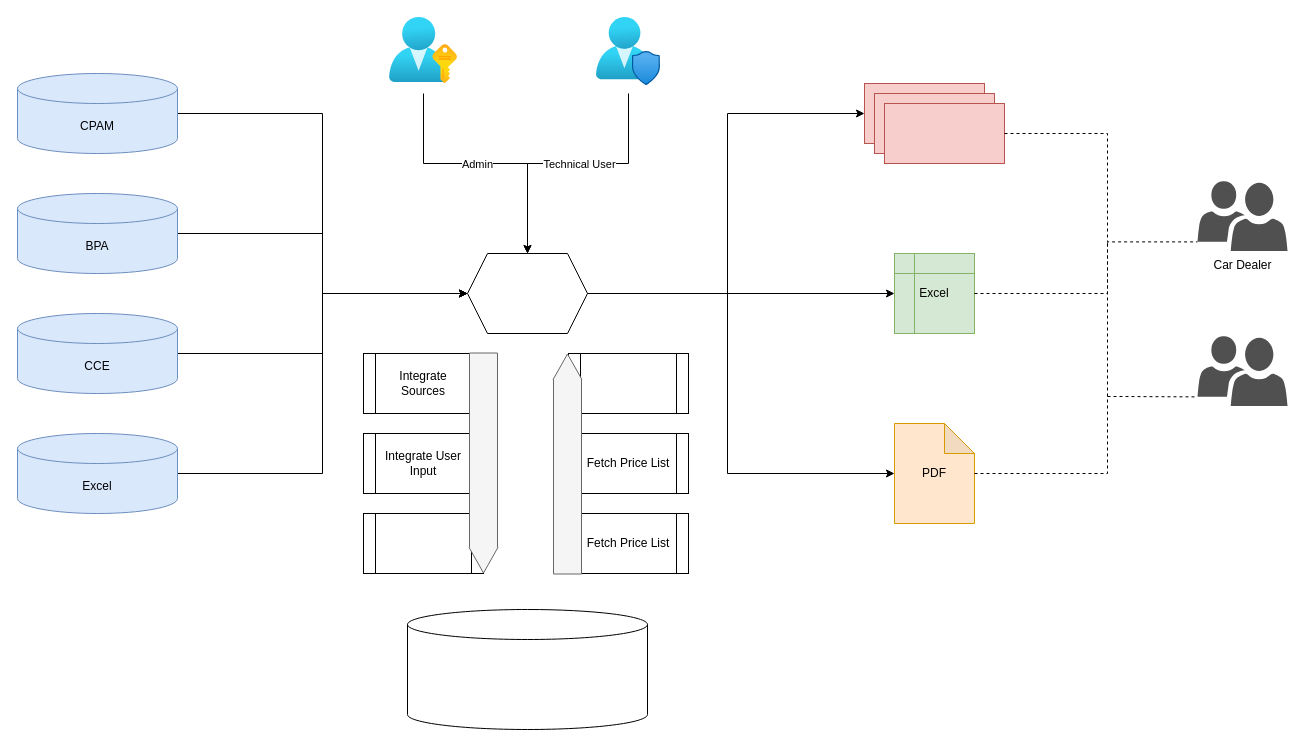
Image size: 1305x747. Some labels were removed from this diagram. Here are the shapes that lost their labels. From the top down, the centre of each, then its label:
At (944,133): "PowerPoint".
At (527,293): "API Gateway".
At (628,383): "Fetch Variant Binder".
At (1242,371): "Wholesales".
At (423,543): "Update Internal State".
At (527,669): "Internal Database".
